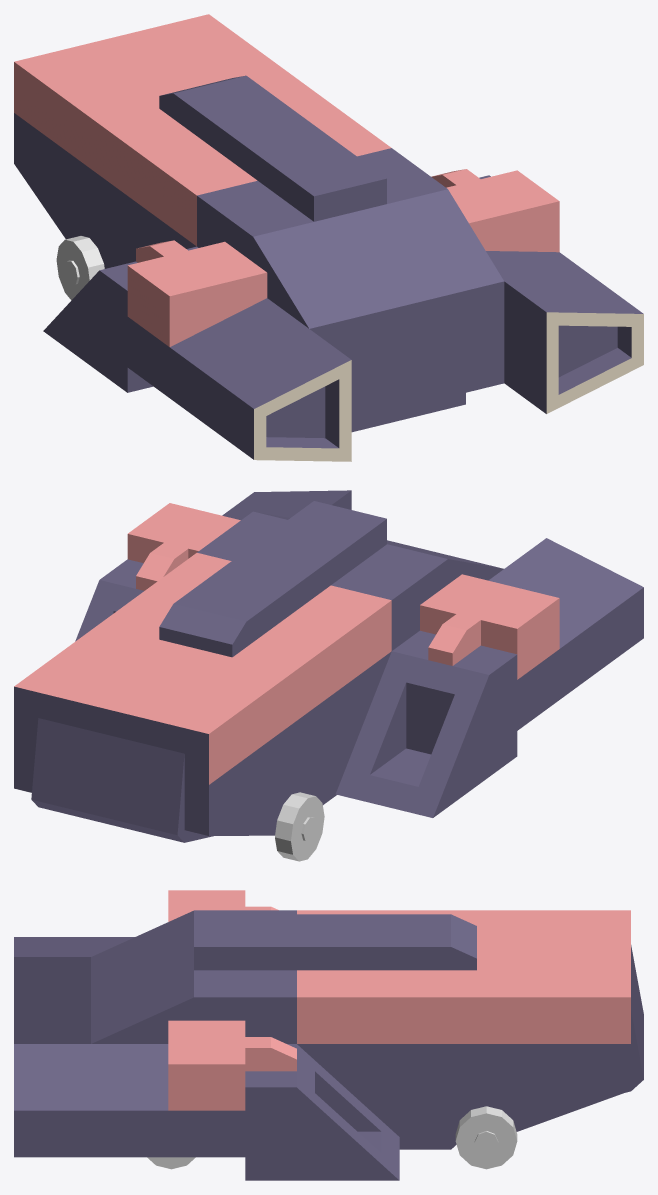
Rendered from robot_caravan.glb.
3 views of the same model, one above another, from view 1: azimuth 30°, elevation 25°; view 2: azimuth 150°, elevation 25°; view 3: azimuth 270°, elevation 25° (orthographic). The views are drawn at different scales.
Parts seen in each view (by area): view 1: craft_cargoA, wheel_fl; view 2: craft_cargoA, wheel_fl; view 3: craft_cargoA, wheel_fr, wheel_br.
Part boxes in pixels (x1,y1,x2,y2): craft_cargoA: [14, 14, 643, 461]; wheel_fl: [56, 236, 104, 300]; craft_cargoA: [14, 490, 643, 842]; wheel_fl: [275, 792, 324, 861]; craft_cargoA: [14, 890, 643, 1180]; wheel_fr: [455, 1106, 517, 1169]; wheel_br: [147, 1157, 195, 1169].
Bounding box in the file's own units: 1.8 × 0.9 × 2.76.
